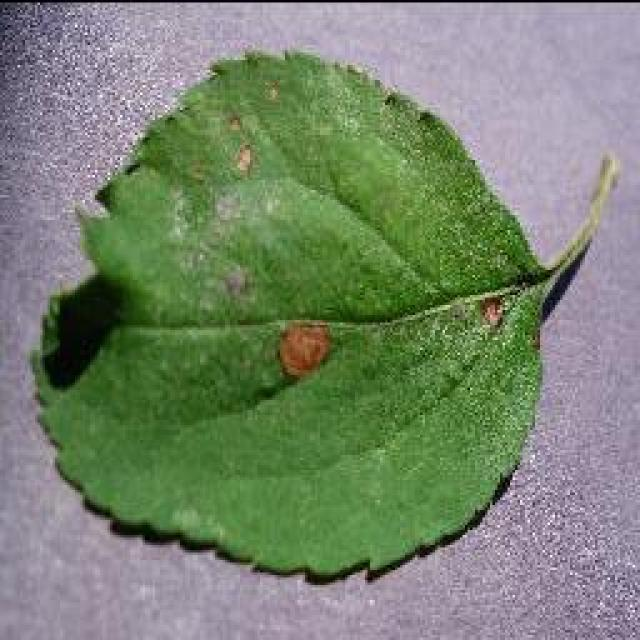apple scab disease: (28, 45, 620, 585)
